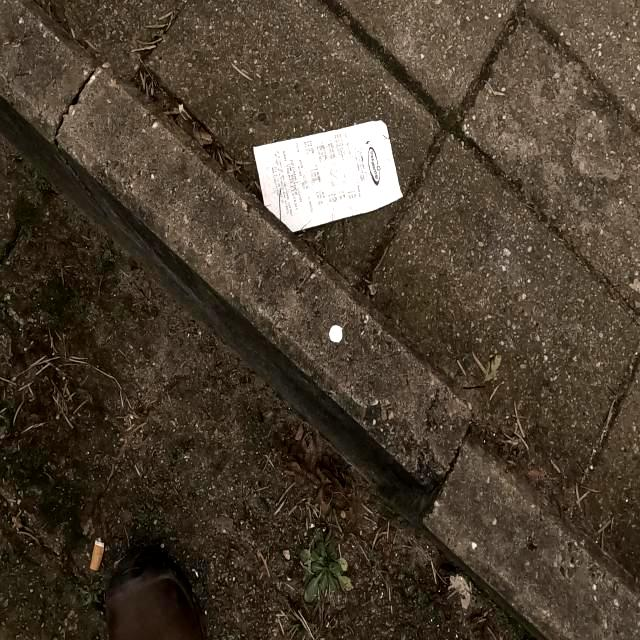Paper: (252, 115, 404, 233)
